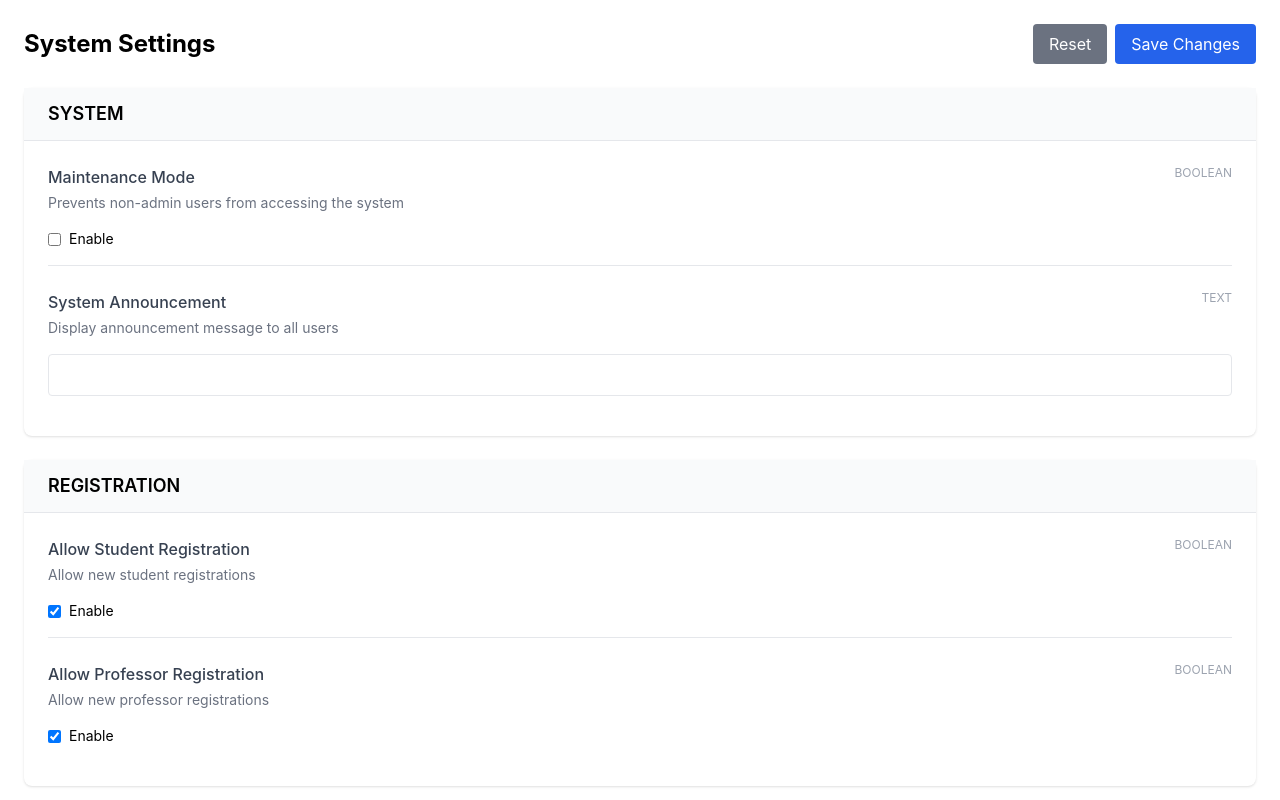
Scenario: SystemSettingsForm Tests › clears message when Reset is clicked
The width and height of the screenshot is (1280, 800).
Expected: the heading "System Settings" is shown, [24,28,215,60]
Note: Trigger an error message
Click the button "Save Changes".
click(1186, 44)  # box [1115,24,1256,64]
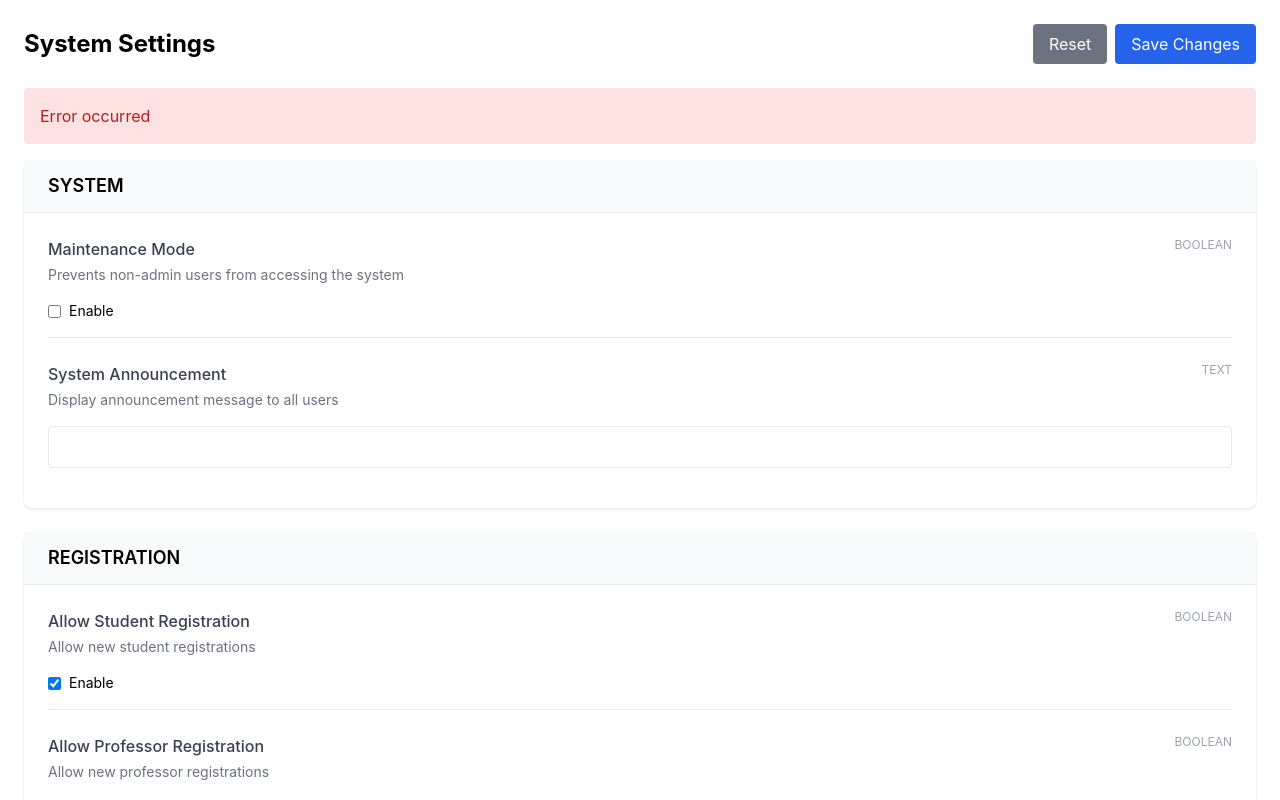
Expected: the text "Error occurred" is shown, [24,88,1256,144]
Note: Click Reset
Click the button "Reset".
click(1070, 44)  # box [1033,24,1107,64]
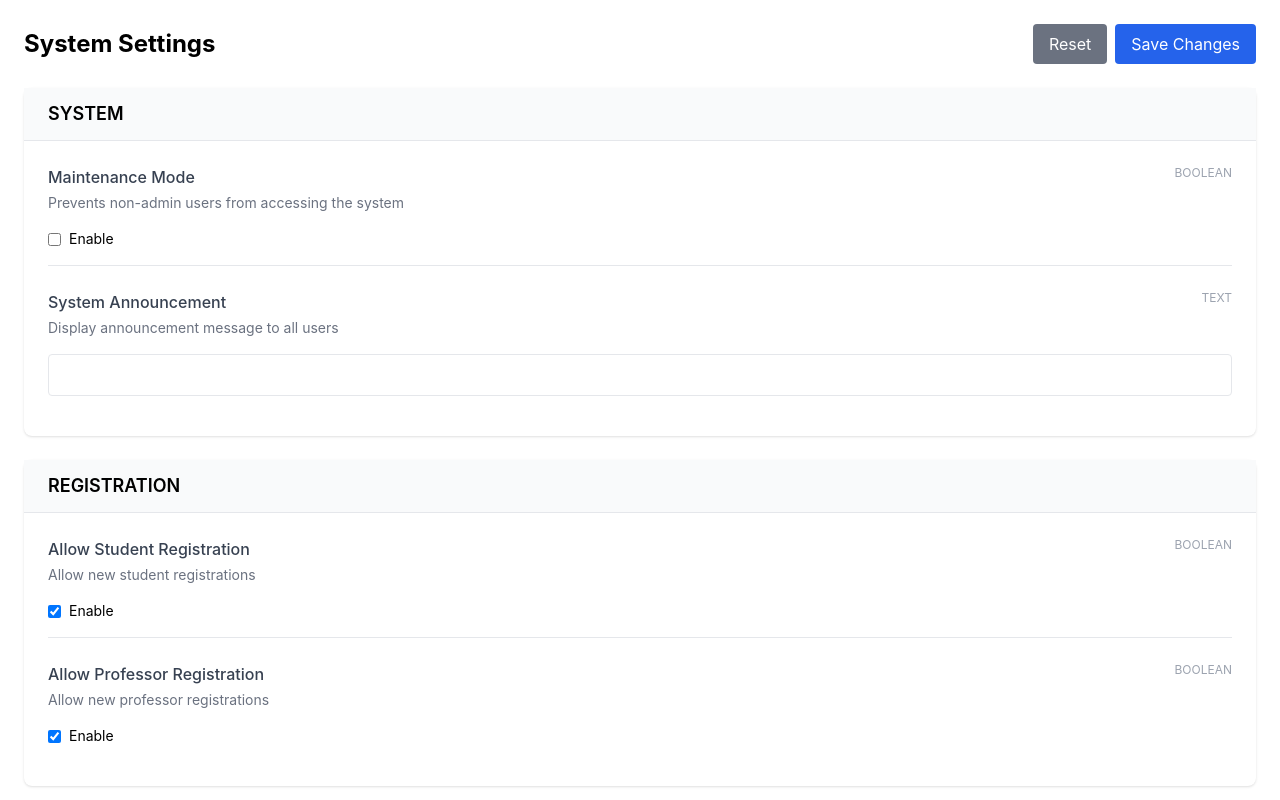
Expected: the text "Error occurred" is gone
